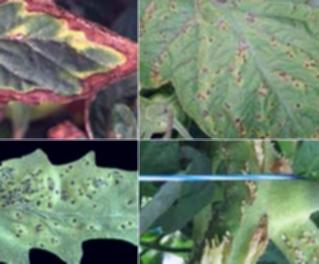Tomato leaf bacterial spot: (149, 0, 319, 134), (0, 0, 133, 129), (0, 150, 137, 264)
